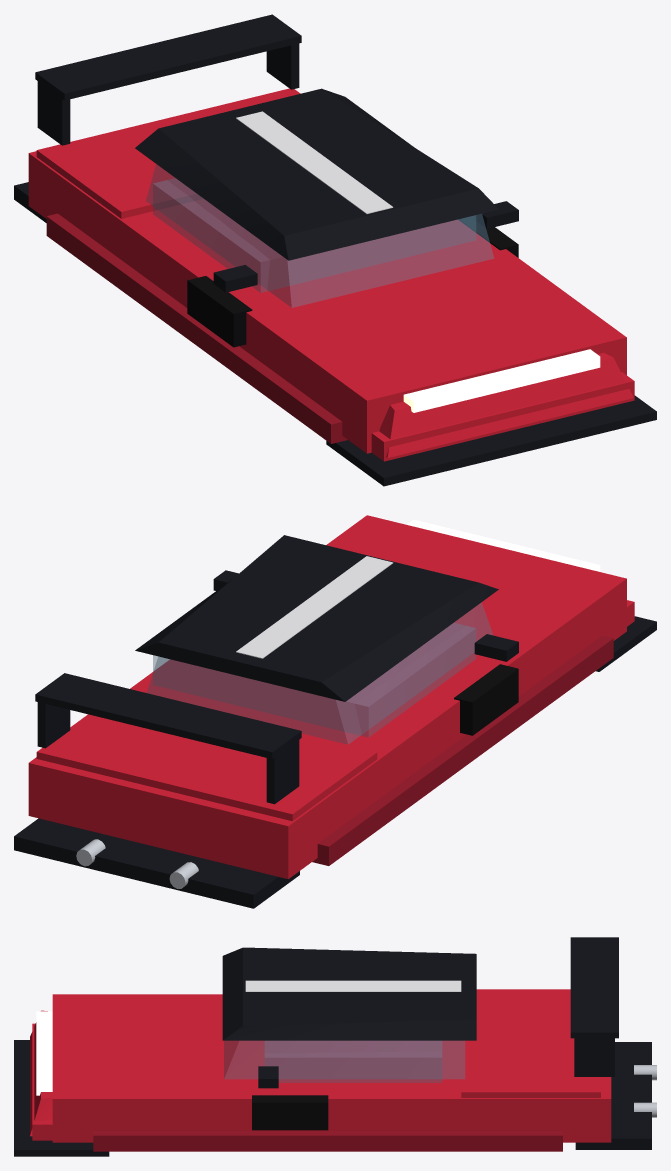
File: hyper-gt.glb
3 renders of one model, top to bottom at view 1: azimuth 30°, elevation 25°; view 2: azimuth 150°, elevation 25°; view 3: azimuth 270°, elevation 25°, orthographic. The views are drawn at different scales.
Parts seen in each view (by area): view 1: vector-gt-r; view 2: vector-gt-r; view 3: vector-gt-r.
Part boxes in pixels (<box>): vector-gt-r: <box>14,14,656,486</box>; vector-gt-r: <box>14,515,656,908</box>; vector-gt-r: <box>14,937,656,1156</box>.
Size of the model in its own units: 2.2 by 1.06 by 5.07.
